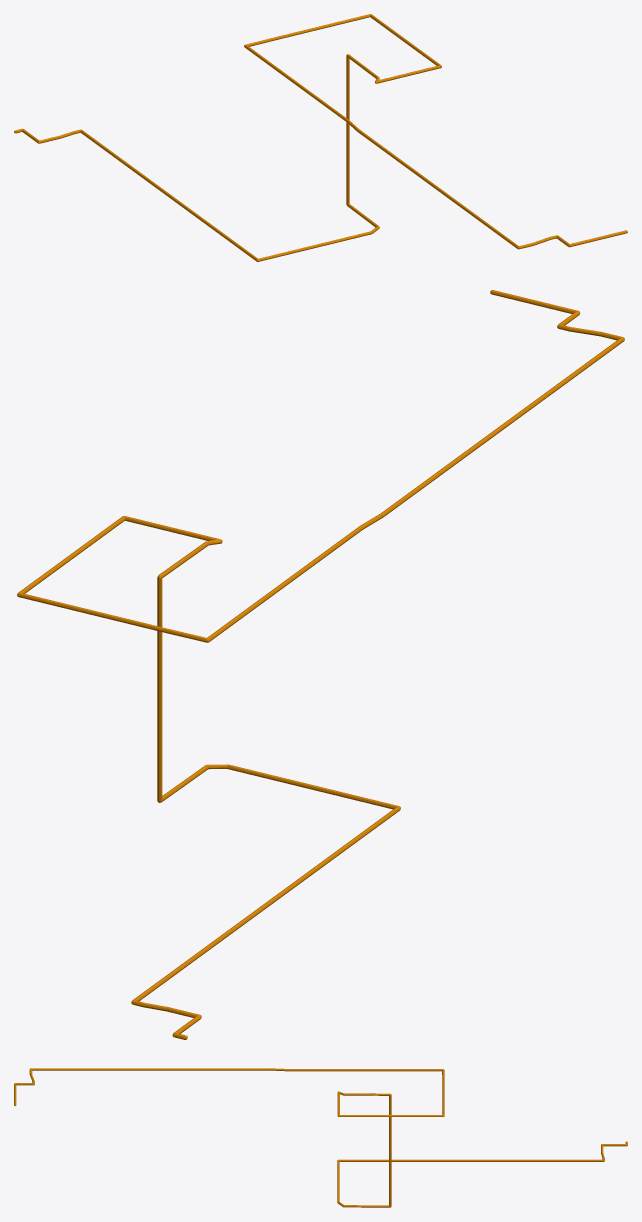
3 renders of one model, top to bottom at view 1: azimuth 30°, elevation 25°; view 2: azimuth 150°, elevation 25°; view 3: azimuth 270°, elevation 25°, orthographic. The views are drawn at different scales.
Size of the model in its own units: 1655 by 1020 by 4979.
